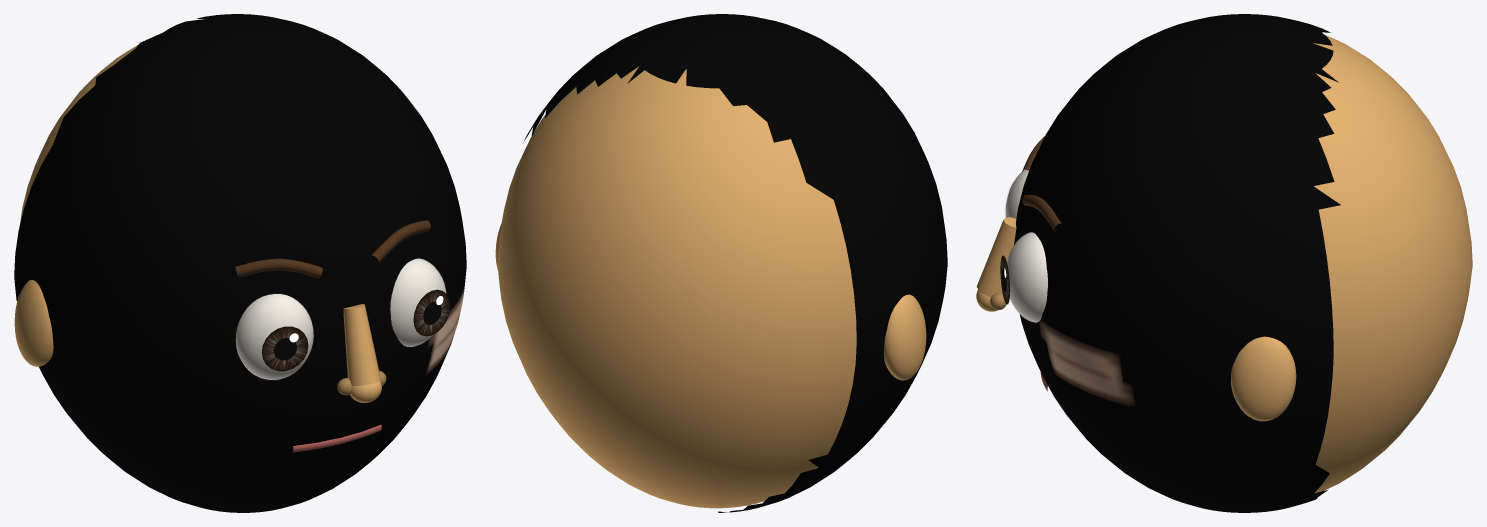
The model's file is 03-pansement.glb.
The picture shows the model from 3 angles, left to right: view 1: azimuth 30°, elevation 25°; view 2: azimuth 150°, elevation 25°; view 3: azimuth 270°, elevation 25°; orthographic projection.
Bounding box in the file's own units: 0.3087 × 0.327 × 0.3166.
Materials: 10 (2 with a texture image).
